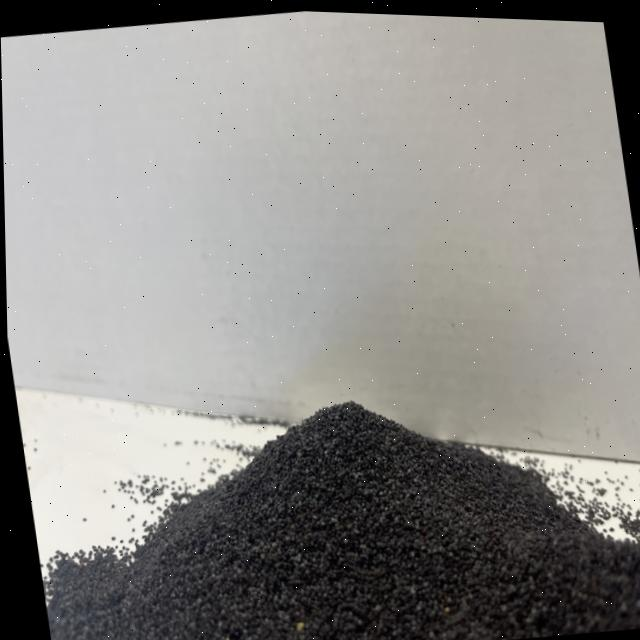Poppy Seeds: (22, 299, 640, 640)
